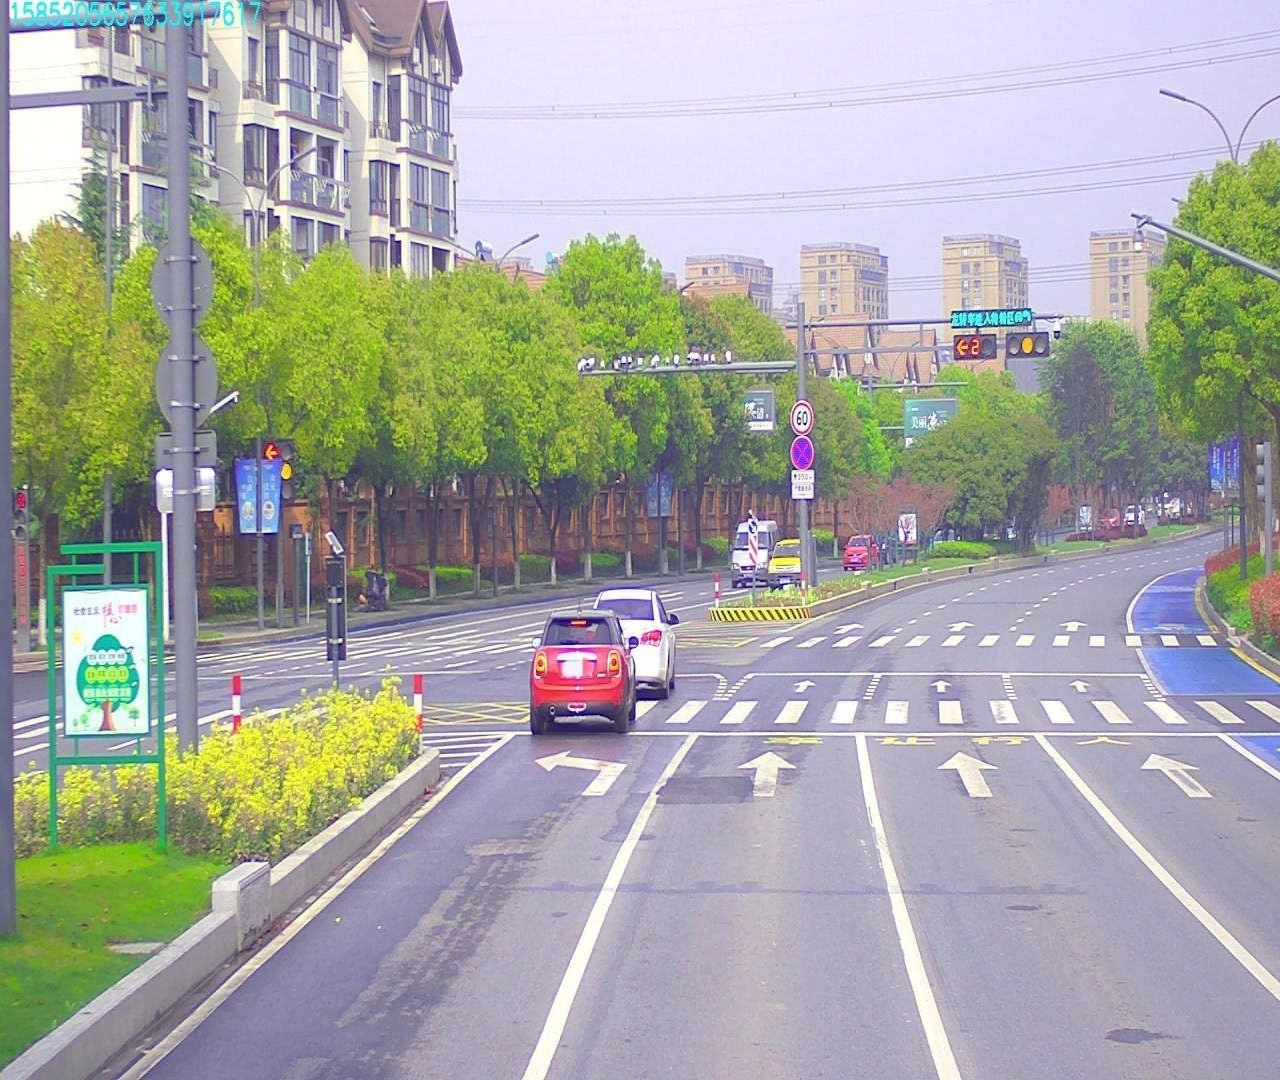red: (958, 336, 1000, 363)
yellow: (1008, 336, 1046, 358)
